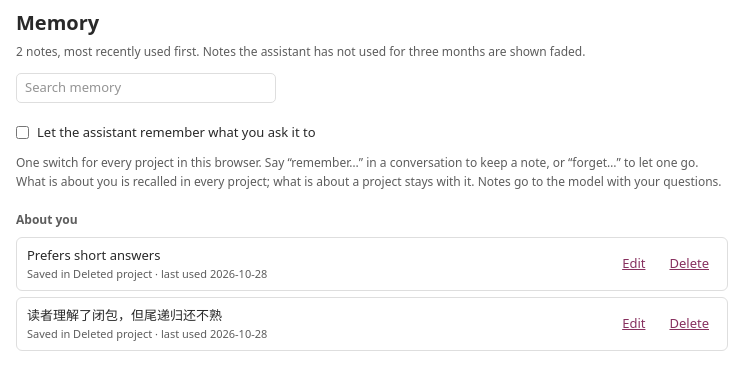
memory page › finds a note by a term the word segmenter would split
Expected: the text "Prefers short answers" is shown, top-left (27, 246), bottom-right (160, 264)
Type "尾递归" into the search field labelled "Search memory" at x=146, y=88, box top-left (16, 73), bottom-right (276, 103)
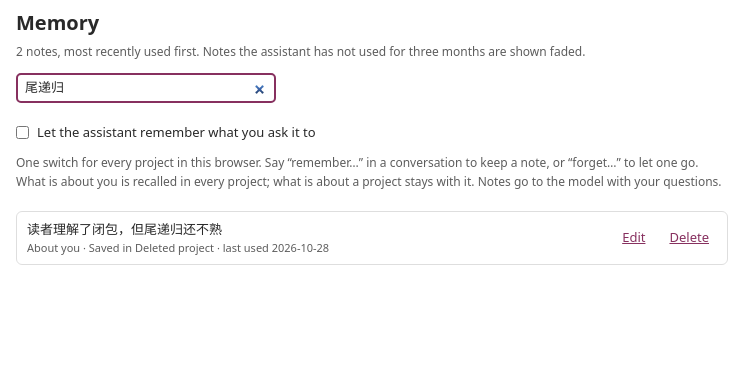
Expected: the element named "Search results" shows "读者理解了闭包", top-left (27, 220), bottom-right (222, 238)
Expected: the element named "Search results" no longer shows "Prefers short answers", top-left (16, 211), bottom-right (728, 265)
